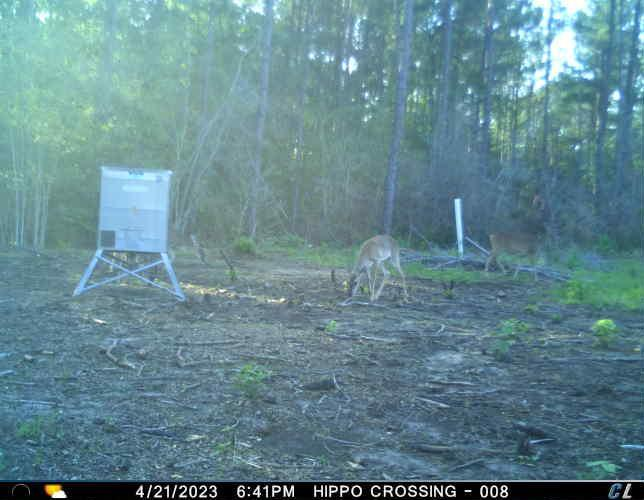Deer: (340, 233, 414, 307), (484, 226, 551, 280)
